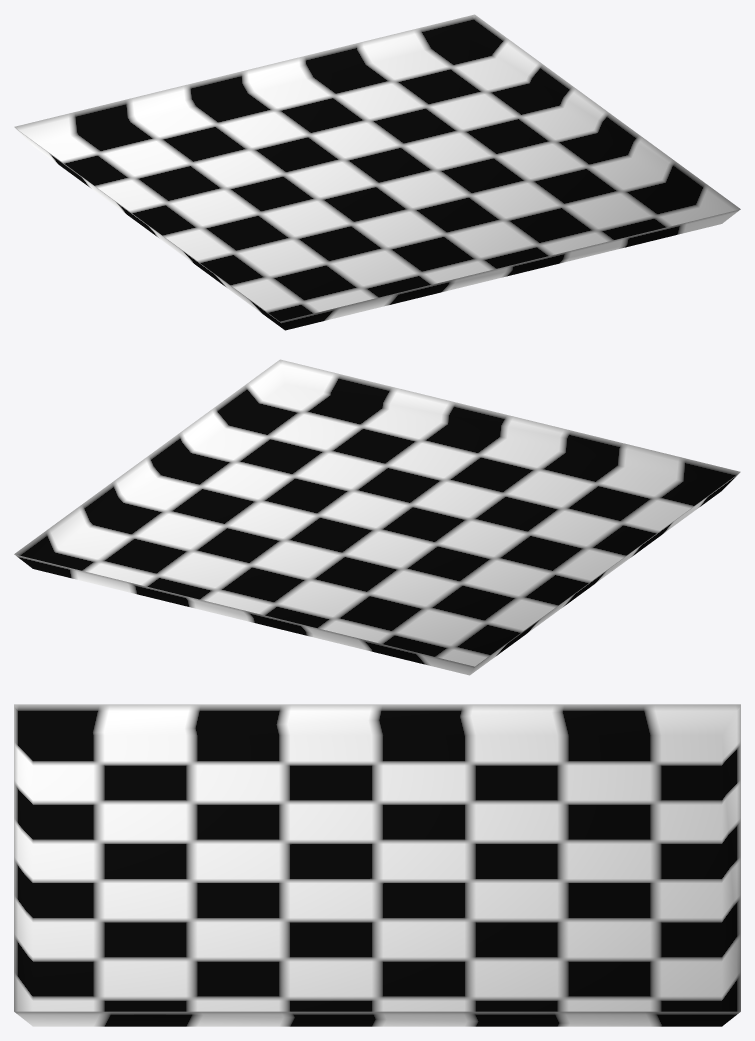
Rendered from initqi7.dae.
3 views of the same model, one above another, from view 1: azimuth 30°, elevation 25°; view 2: azimuth 150°, elevation 25°; view 3: azimuth 270°, elevation 25° (orthographic). The views are drawn at different scales.
Visible parts, largest first — view 1: item; view 2: item; view 3: item.
Part boxes in pixels (<box>): item: <box>14,14,740,330</box>; item: <box>14,359,740,675</box>; item: <box>14,704,740,1026</box>.
Bounding box in the file's own units: 1.78 × 1.78 × 0.0624.
Materials: 1 (1 with a texture image).
